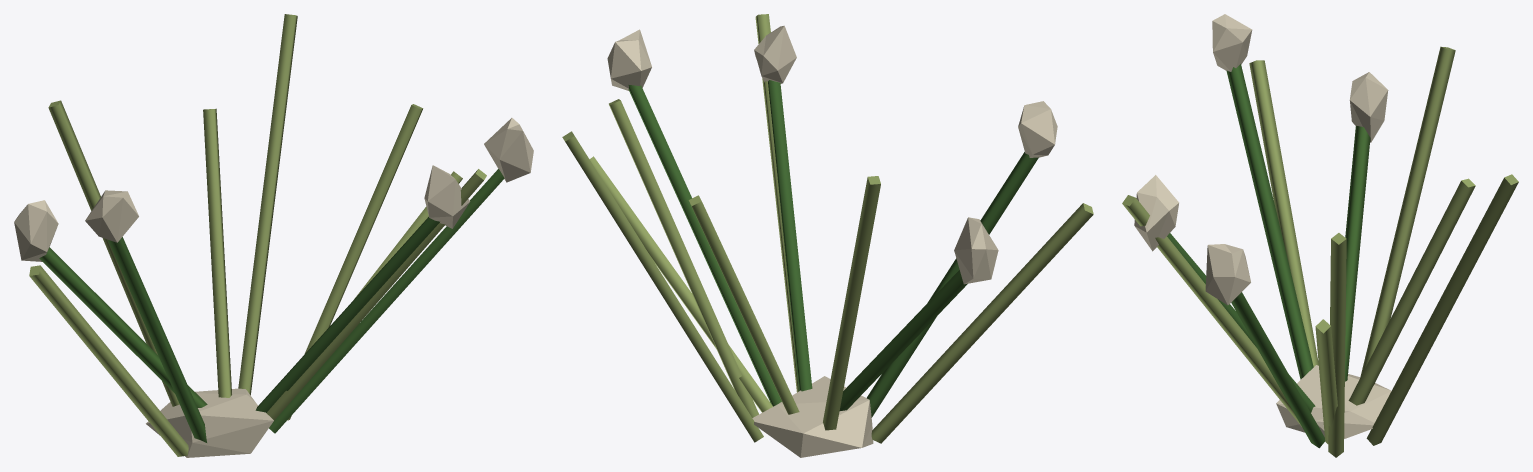
File: dune-grass-tuft.glb
3 renders of one model, left to right at view 1: azimuth 30°, elevation 25°; view 2: azimuth 150°, elevation 25°; view 3: azimuth 270°, elevation 25°, orthographic. The views are drawn at different scales.
Parts seen in each view (by area): view 1: dune_grass_tuft; view 2: dune_grass_tuft; view 3: dune_grass_tuft.
Part boxes in pixels (x1,y1,x2,y2): dune_grass_tuft: (14,14,533,457); dune_grass_tuft: (562,14,1093,457); dune_grass_tuft: (1122,14,1518,457).
Size of the model in its own units: 1.15 by 0.7387 by 0.8087.
